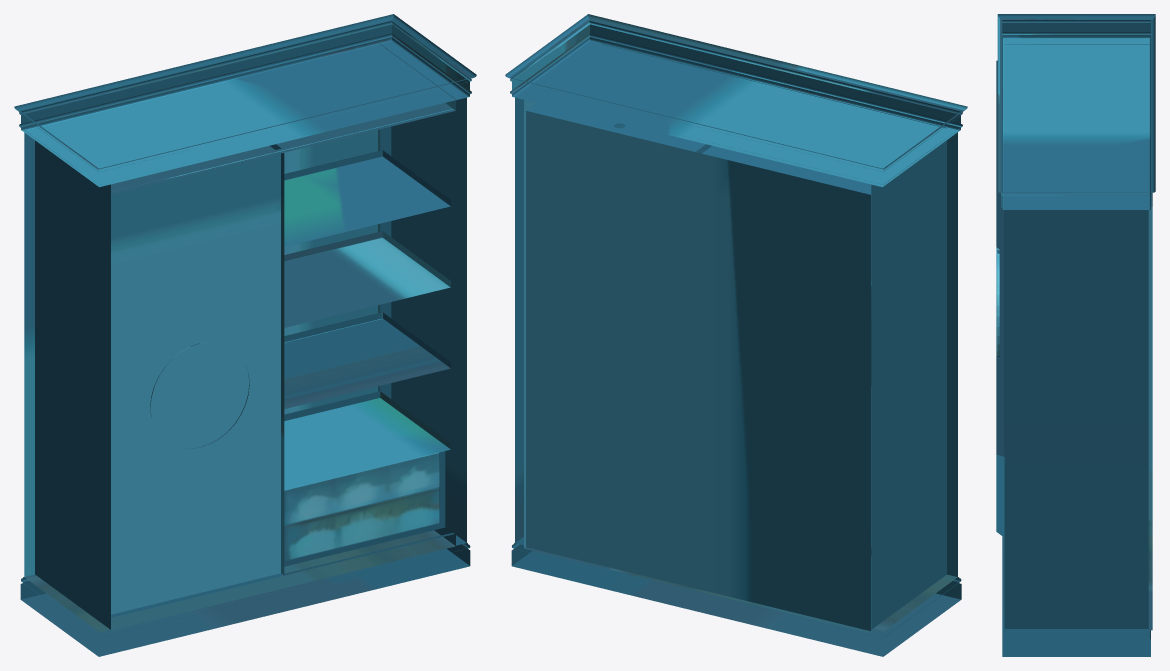
Rendered from edited_mesh.glb.
The picture shows the model from 3 angles, left to right: view 1: azimuth 30°, elevation 25°; view 2: azimuth 150°, elevation 25°; view 3: azimuth 270°, elevation 25°; orthographic projection. The views are drawn at different scales.
Parts seen in each view (by area): view 1: solid_001_wire; view 2: solid_001_wire; view 3: solid_001_wire.
Boxes of the visible parts, left/top/right/bottom form: solid_001_wire: left=14, top=14, right=476, bottom=656; solid_001_wire: left=505, top=14, right=967, bottom=656; solid_001_wire: left=996, top=14, right=1155, bottom=656.
Bounding box in the file's own units: 1.15 × 1.43 × 0.4397.
1 material, 1 textured.
